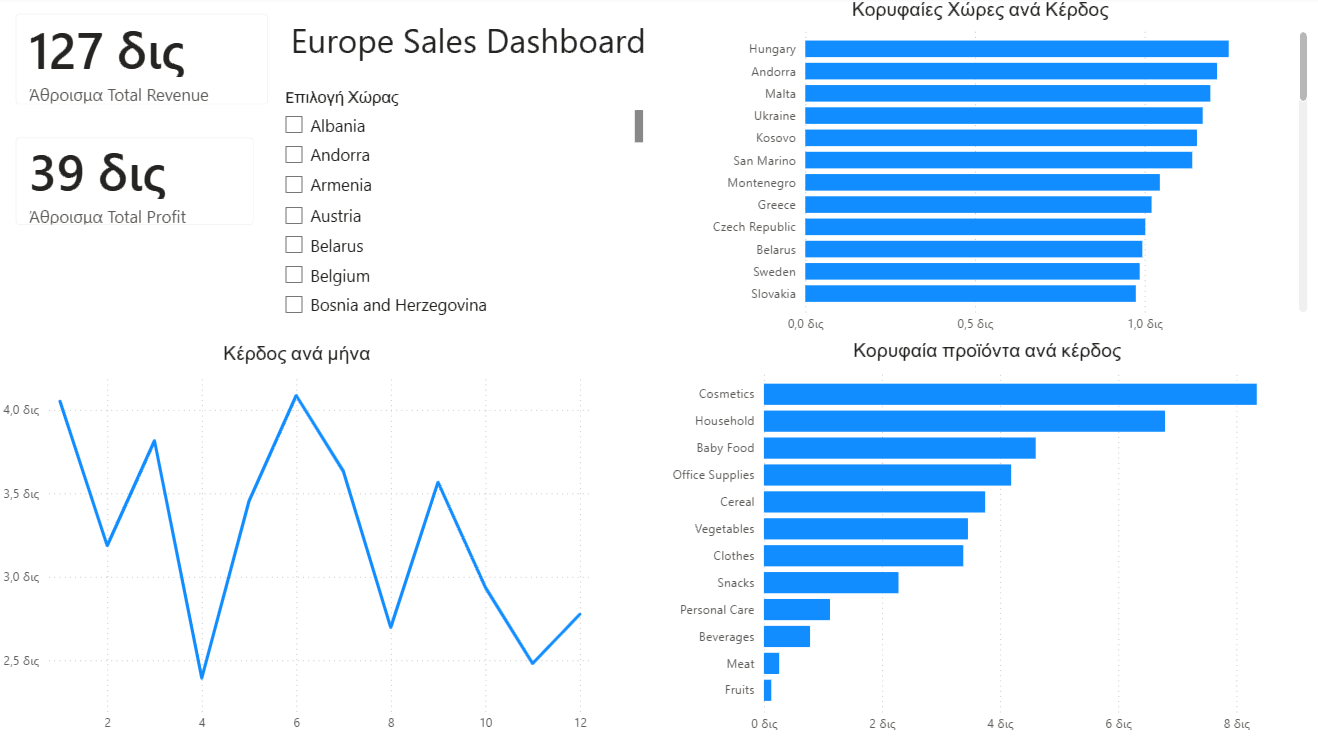

Layout of this report page (visuals, bound fields, positions):
{"tool":"powerbi","page":{"name":"Σελίδα 1","canvas":[1280,720],"ordinal":0},"visuals":[{"type":"cardVisual","fields":{"Data":["Sum(Europe_Sales.Total Revenue)"]},"box":[0,0,278.1,122.5],"z":0},{"type":"cardVisual","fields":{"Data":["Sum(Europe_Sales.Total Profit)"]},"box":[0,119.8,264.3,119.8],"z":1000},{"type":"lineChart","title":"Κέρδος ανά μήνα","fields":{"Category":["Europe_Sales.Month"],"Y":["Sum(Europe_Sales.Total Profit)"]},"box":[0,334.5,576.8,385.5],"z":2000},{"type":"clusteredBarChart","title":"Κορυφαία προϊόντα ανά κέρδος","fields":{"Category":["Europe_Sales.Item Type"],"Y":["Sum(Europe_Sales.Total Profit)"]},"box":[639.4,331.8,631,388.5],"z":3000},{"type":"textbox","box":[278.1,15.1,360.7,60.6],"z":4000},{"type":"clusteredBarChart","title":"Κορυφαίες Χώρες ανά Κέρδος","fields":{"Category":["Europe_Sales.Country"],"Y":["Sum(Europe_Sales.Total Profit)"]},"box":[627.8,2.8,641.5,331.8],"z":5000},{"type":"slicer","fields":{"Values":["Europe_Sales.Country"]},"box":[264.2,84.5,363.1,238.9],"z":6000}]}

Visuals, with their boxes in screenshot pixels (x1, y1, x2, y2), scaled from the page's 1280x720 canvas onto the 1318x739 screenshot:
cardVisual - Sum(Europe_Sales.Total Revenue): bbox(0, 0, 286, 126)
cardVisual - Sum(Europe_Sales.Total Profit): bbox(0, 123, 272, 246)
"Κέρδος ανά μήνα" lineChart: bbox(0, 343, 594, 738)
"Κορυφαία προϊόντα ανά κέρδος" clusteredBarChart: bbox(658, 341, 1308, 738)
textbox: bbox(286, 15, 658, 78)
"Κορυφαίες Χώρες ανά Κέρδος" clusteredBarChart: bbox(646, 3, 1307, 343)
slicer - Europe_Sales.Country: bbox(272, 87, 646, 332)
